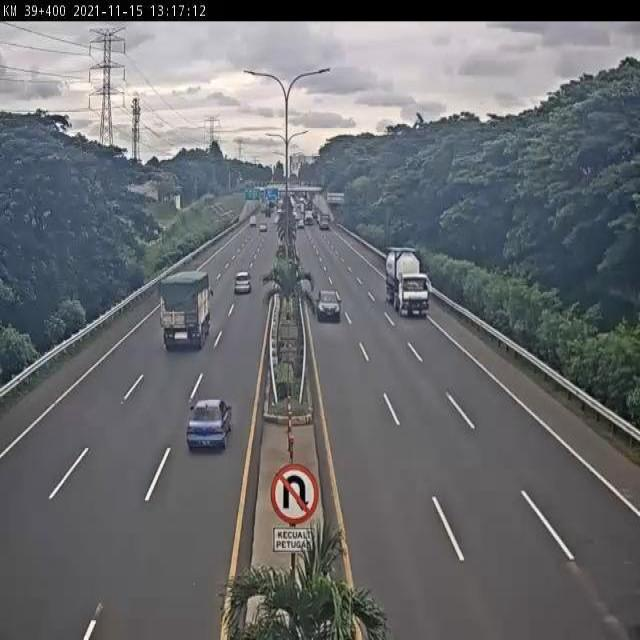ARABA: (183, 397, 234, 455), (316, 287, 342, 324), (233, 267, 254, 297)
TIR: (158, 267, 212, 349), (384, 244, 433, 317)
